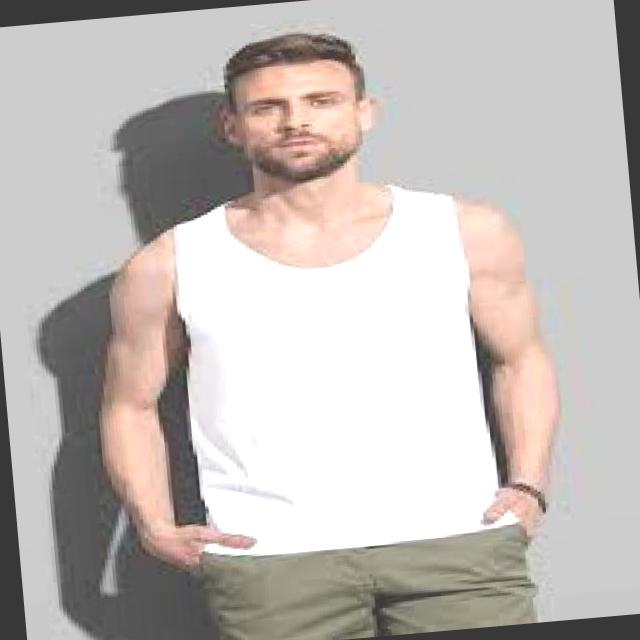no_vest: (166, 176, 517, 559)
